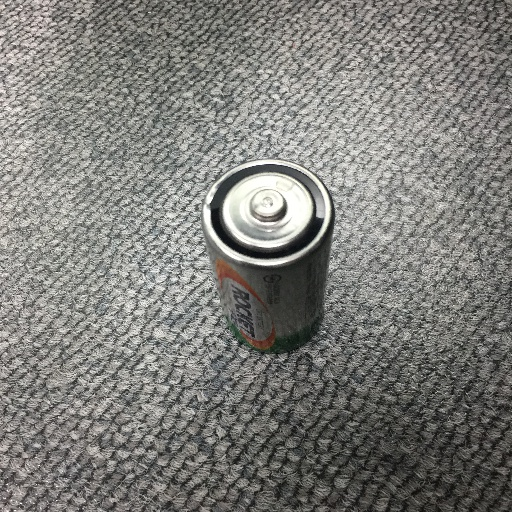Battery_0: (189, 153, 345, 364)
